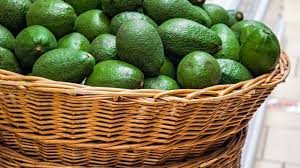aguacate: (114, 19, 167, 75), (30, 46, 97, 84), (174, 50, 222, 88)
